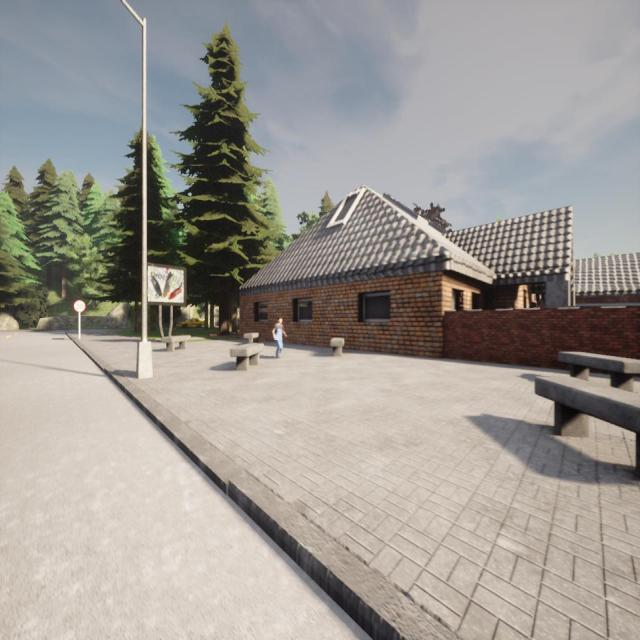Pedestrian: (272, 318, 286, 358)
Traffic_Signs: (73, 299, 87, 313)
Vehicle: (176, 318, 205, 329)
